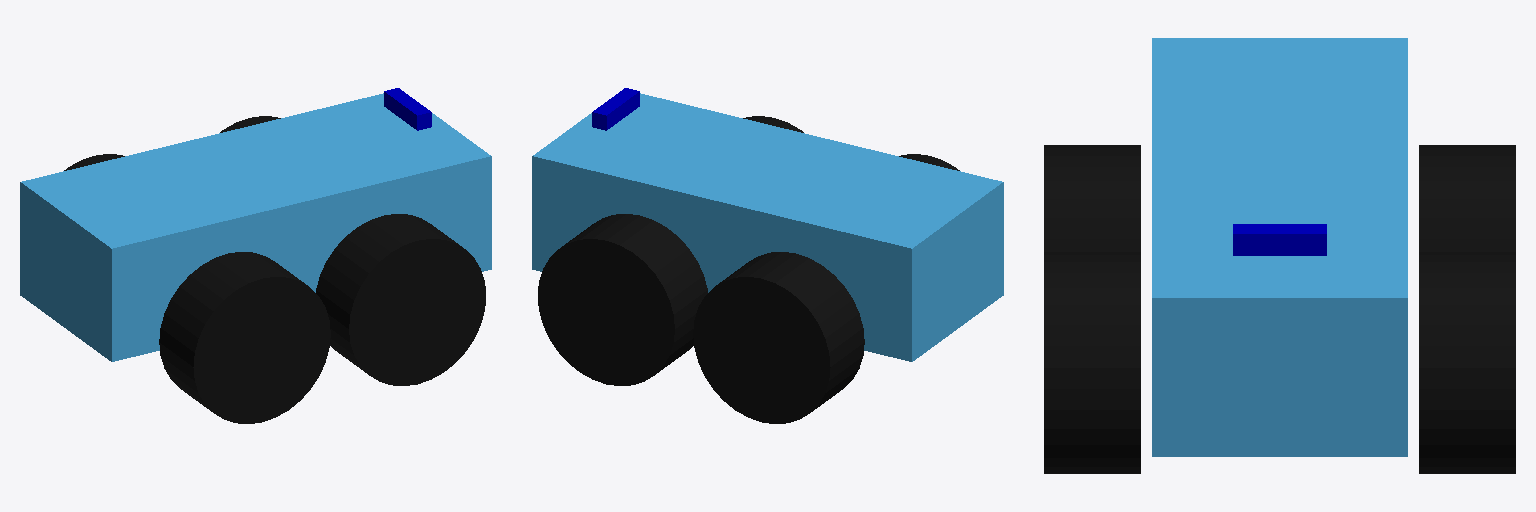
robot.urdf — seekurjr:
<?xml version="1.0" ?>
<!-- =================================================================================== -->
<!-- |    This document was autogenerated by xacro from seekurjr.xacro.xml             | -->
<!-- |    EDITING THIS FILE BY HAND IS NOT RECOMMENDED                                 | -->
<!-- =================================================================================== -->
<robot name="seekurjr" xmlns:xacro="http://www.ros.org/wiki/xacro">
  <!-- define global properties -->
  <!-- <property name="wheel_separation" value="0.66357" /> -->
  <!--
SeekurJr Base

m=77; h=0.5; w=0.84; d=1.05; 

length of the robot with laser rangefinder, etc 1.05m
width of the robot with wheels, etc 0.84m
height of the robot with all stuff 0.5m

-->
  <!--
  <xacro:include filename="$(find seekurjr_gazebo)/urdf/base.urdf.xml" />
  -->
  <link name="base_footprint">
    <!--
[ WARN] The root link base_footprint has an inertia specified in the URDF, but KDL does not support a root link with an inertia.  As a workaround, you can add an extra dummy link to your URDF.
-->
    <inertial>
      <mass value="0.0001"/>
      <origin xyz="0 0 0"/>
      <inertia ixx="0.0001" ixy="0.0" ixz="0.0" iyy="0.0001" iyz="0.0" izz="0.0001"/>
    </inertial>
    <visual>
      <origin rpy="0 0 0" xyz="0 0 0"/>
      <geometry>
        <box size="0.001 0.001 0.001"/>
      </geometry>
      <material name="Green">
        <color rgba="0 0.8 0 1"/>
      </material>
    </visual>
    <!-- 
	<collision>
		<origin xyz="0 0 ${base_size_z/2 + ground_clearance}" rpy="0 0 0" />
		<geometry>
			<box size="0.001 0.001 0.001" />
		</geometry>
	</collision>-->
  </link>
  <joint name="base_footprint_joint" type="fixed">
    <!-- NB: While you would think this would make it go up, it is oddly reversed.
		This moves the joint to 0,0,0 where we want it for rviz, etc. 
		origin xyz="0 0 ${base_size_z/2 + 0.051}" rpy="0 0 0"-->
    <origin rpy="0 0 0" xyz="0 0 0"/>
    <parent link="base_footprint"/>
    <child link="base_link"/>
  </joint>
  <link name="base_link">
    <inertial>
      <mass value="70.0"/>
      <origin rpy="0 0 0" xyz="0 0 0.2"/>
      <inertia ixx="3.03333212" ixy="0.0" ixz="0.0" iyy="7.3645803875" iyz="0.0" izz="8.5312465875"/>
    </inertial>
    <visual>
      <origin rpy="0 0 0" xyz="0 0 0.2"/>
      <geometry>
        <box size="1.05 0.4371 0.3"/>
      </geometry>
    </visual>
    <collision>
      <origin rpy="0 0 0" xyz="0 0 0.2"/>
      <geometry>
        <box size="1.05 0.6 0.4"/>
      </geometry>
    </collision>
  </link>
  <link name="bl_wheel">
    <visual>
      <origin rpy="1.57079632679 0 0" xyz="0 0 0"/>
      <geometry>
        <cylinder length="0.164" radius="0.19"/>
      </geometry>
      <material name="WheelBlack">
        <color rgba="0.117 0.117 0.117 1"/>
      </material>
    </visual>
    <collision>
      <origin rpy="1.57079632679 0 0" xyz="0 0 0"/>
      <geometry>
        <cylinder length="0.164" radius="0.19"/>
      </geometry>
    </collision>
    <inertial>
      <mass value="1.75"/>
      <origin rpy="0 0 0" xyz="0 0 0"/>
      <inertia ixx="0.0197160754469" ixy="0.0" ixz="0.0" iyy="0.0197160754469" iyz="0.0" izz="0.0315875"/>
    </inertial>
  </link>
  <link name="fl_wheel">
    <visual>
      <origin rpy="1.57079632679 0 0" xyz="0 0 0"/>
      <geometry>
        <cylinder length="0.164" radius="0.19"/>
      </geometry>
      <material name="WheelBlack">
        <color rgba="0.117 0.117 0.117 1"/>
      </material>
    </visual>
    <collision>
      <origin rpy="1.57079632679 0 0" xyz="0 0 0"/>
      <geometry>
        <cylinder length="0.164" radius="0.19"/>
      </geometry>
    </collision>
    <inertial>
      <mass value="1.75"/>
      <origin rpy="0 0 0" xyz="0 0 0"/>
      <inertia ixx="0.0197160754469" ixy="0.0" ixz="0.0" iyy="0.0197160754469" iyz="0.0" izz="0.0315875"/>
    </inertial>
  </link>
  <link name="br_wheel">
    <visual>
      <origin rpy="1.57079632679 0 0" xyz="0 0 0"/>
      <geometry>
        <cylinder length="0.164" radius="0.19"/>
      </geometry>
      <material name="WheelBlack">
        <color rgba="0.117 0.117 0.117 1"/>
      </material>
    </visual>
    <collision>
      <origin rpy="1.57079632679 0 0" xyz="0 0 0"/>
      <geometry>
        <cylinder length="0.164" radius="0.19"/>
      </geometry>
    </collision>
    <inertial>
      <mass value="1.75"/>
      <origin rpy="0 0 0" xyz="0 0 0"/>
      <inertia ixx="0.0197160754469" ixy="0.0" ixz="0.0" iyy="0.0197160754469" iyz="0.0" izz="0.0315875"/>
    </inertial>
  </link>
  <link name="fr_wheel">
    <visual>
      <origin rpy="1.57079632679 0 0" xyz="0 0 0"/>
      <geometry>
        <cylinder length="0.164" radius="0.19"/>
      </geometry>
      <material name="WheelBlack">
        <color rgba="0.117 0.117 0.117 1"/>
      </material>
    </visual>
    <collision>
      <origin rpy="1.57079632679 0 0" xyz="0 0 0"/>
      <geometry>
        <cylinder length="0.164" radius="0.19"/>
      </geometry>
    </collision>
    <inertial>
      <mass value="1.75"/>
      <origin rpy="0 0 0" xyz="0 0 0"/>
      <inertia ixx="0.0197160754469" ixy="0.0" ixz="0.0" iyy="0.0197160754469" iyz="0.0" izz="0.0315875"/>
    </inertial>
  </link>
  <joint name="bl_wheel_joint" type="continuous">
    <origin rpy="0 0 0" xyz="-0.215 0.32 0.083"/>
    <parent link="base_link"/>
    <child link="bl_wheel"/>
    <axis xyz="0 1 0"/>
    <dynamics damping="1.0" friction="0.0"/>
    <limit effort="30" lower="-100" upper="100" velocity="1.0"/>
  </joint>
  <joint name="fl_wheel_joint" type="continuous">
    <origin rpy="0 0 0" xyz="0.215 0.32 0.083"/>
    <parent link="base_link"/>
    <child link="fl_wheel"/>
    <axis xyz="0 1 0"/>
    <dynamics damping="1.0" friction="0.0"/>
    <limit effort="30" lower="-100" upper="100" velocity="1.0"/>
  </joint>
  <joint name="br_wheel_joint" type="continuous">
    <origin rpy="0 0 0" xyz="-0.215 -0.32 0.083"/>
    <parent link="base_link"/>
    <child link="br_wheel"/>
    <axis xyz="0 1 0"/>
    <dynamics damping="1.0" friction="0.0"/>
    <limit effort="30" lower="-100" upper="100" velocity="1.0"/>
  </joint>
  <joint name="fr_wheel_joint" type="continuous">
    <origin rpy="0 0 0" xyz="0.215 -0.32 0.083"/>
    <parent link="base_link"/>
    <child link="fr_wheel"/>
    <axis xyz="0 1 0"/>
    <dynamics damping="1.0" friction="0.0"/>
    <limit effort="30" lower="-100" upper="100" velocity="1.0"/>
  </joint>
  <gazebo reference="fr_wheel">
    <!-- kp and kd for rubber -->
    <kp>1000000.0</kp>
    <kd>100.0</kd>
    <mu1>0.9</mu1>
    <mu2>0.9</mu2>
    <fdir1>0 1 0</fdir1>
    <maxVel>1.0</maxVel>
    <minDepth>0.00</minDepth>
    <material>Gazebo/Grey</material>
  </gazebo>
  <gazebo reference="br_wheel">
    <!-- kp and kd for rubber -->
    <kp>1000000.0</kp>
    <kd>100.0</kd>
    <mu1>0.9</mu1>
    <mu2>0.9</mu2>
    <fdir1>0 1 0</fdir1>
    <maxVel>1.0</maxVel>
    <minDepth>0.00</minDepth>
    <material>Gazebo/Grey</material>
  </gazebo>
  <gazebo reference="fl_wheel">
    <!-- kp and kd for rubber -->
    <kp>1000000.0</kp>
    <kd>100.0</kd>
    <mu1>0.9</mu1>
    <mu2>0.9</mu2>
    <fdir1>0 1 0</fdir1>
    <maxVel>1.0</maxVel>
    <minDepth>0.00</minDepth>
    <material>Gazebo/Grey</material>
  </gazebo>
  <gazebo reference="bl_wheel">
    <!-- kp and kd for rubber -->
    <kp>1000000.0</kp>
    <kd>100.0</kd>
    <mu1>0.9</mu1>
    <mu2>0.9</mu2>
    <fdir1>0 1 0</fdir1>
    <maxVel>1.0</maxVel>
    <minDepth>0.00</minDepth>
    <material>Gazebo/Grey</material>
  </gazebo>
  <gazebo>
    <plugin filename="libgazebo_ros_skid_steer_drive.so" name="skid_steer_drive_controller">
      <updateRate>100.0</updateRate>
      <robotNamespace>/seekurjr</robotNamespace>
      <leftFrontJoint>fl_wheel_joint</leftFrontJoint>
      <rightFrontJoint>fr_wheel_joint</rightFrontJoint>
      <leftRearJoint>bl_wheel_joint</leftRearJoint>
      <rightRearJoint>br_wheel_joint</rightRearJoint>
      <wheelSeparation>0.66</wheelSeparation>
      <wheelDiameter>0.385</wheelDiameter>
      <robotBaseFrame>base_link</robotBaseFrame>
      <torque>50</torque>
      <topicName>cmd_vel</topicName>
      <commandTopic>cmd_vel</commandTopic>
      <odometryTopic>odom_raw</odometryTopic>
      <odometryFrame>odom</odometryFrame>
      <!--
    <broadcastTF>false</broadcastTF>
    -->
      <max_force>50.0</max_force>
    </plugin>
  </gazebo>
  <gazebo>
    <plugin filename="libgazebo_ros_p3d.so" name="gazebo_ros_p3d">
      <bodyName>base_link</bodyName>
      <topicName>/ground_truth/state</topicName>
      <alwaysOn>true</alwaysOn>
      <updateRate>100.0</updateRate>
    </plugin>
  </gazebo>
  <gazebo>
    <plugin filename="libgazebo_ros_control.so" name="ros_control">
      <robotNamespace>/seekurjr</robotNamespace>
    </plugin>
  </gazebo>
  <link name="lms1xx_link">
    <collision>
      <origin rpy="0 0 0" xyz="0 0 0"/>
      <geometry>
        <box size="0.1 0.1 0.1"/>
      </geometry>
    </collision>
    <visual>
      <origin rpy="0 0 0" xyz="0 0 0"/>
      <geometry>
        <mesh filename="package://seekurjr_gazebo/meshes/lms100.dae" scale="2 2 2"/>
      </geometry>
    </visual>
    <inertial>
      <mass value="1e-5"/>
      <origin rpy="0 0 0" xyz="0 0 0"/>
      <inertia ixx="1e-6" ixy="0" ixz="0" iyy="1e-6" iyz="0" izz="1e-6"/>
    </inertial>
  </link>
  <joint name="lms1xx_joint" type="fixed">
    <axis xyz="1 0 0"/>
    <origin rpy="0 0 0" xyz="0.52 0.0 0.24"/>
    <parent link="base_link"/>
    <child link="lms1xx_link"/>
  </joint>
  <gazebo reference="lms1xx_link">
    <sensor name="lms1xx" type="ray">
      <pose>0 0 0 0 0 0</pose>
      <visualize>true</visualize>
      <update_rate>20</update_rate>
      <ray>
        <scan>
          <horizontal>
            <samples>720</samples>
            <resolution>1</resolution>
            <min_angle>-2.35619449</min_angle>
            <max_angle>2.35619449</max_angle>
          </horizontal>
        </scan>
        <range>
          <min>0.50</min>
          <max>20.0</max>
          <resolution>0.01</resolution>
        </range>
        <noise>
          <!--
				<type> none </type>
				-->
          <!-- Noise parameters based on published spec for Hokuyo laser
             achieving "+-30mm" accuracy at range < 10m. A mean of 0.0m and
             stddev of 0.01m will put 99.7% of samples within 0.03m of the true
             reading. -->
          <type>gaussian</type>
          <mean>0.0</mean>
          <stddev>0.01</stddev>
        </noise>
      </ray>
      <plugin filename="libgazebo_ros_laser.so" name="gazebo_ros_lms1xx_controller">
        <topicName>/seekurjr/lms1xx/scan</topicName>
        <frameName>lms1xx_link</frameName>
      </plugin>
    </sensor>
  </gazebo>
  <link name="camera_link">
    <inertial>
      <mass value="0.001"/>
      <origin rpy="0 0 0" xyz="0 0 0"/>
      <inertia ixx="0.0001" ixy="0" ixz="0" iyy="0.0001" iyz="0" izz="0.0001"/>
    </inertial>
    <visual>
      <origin rpy="0 0 0" xyz="0 0 0"/>
      <geometry>
        <box size="0.04 0.16 0.04"/>
      </geometry>
      <material name="Yellow">
        <color rgba="0.0 0.0 0.8 1"/>
      </material>
    </visual>
    <collision>
      <origin rpy="0 0 0" xyz="0 0 0"/>
      <geometry>
        <box size="0.04 0.16 0.04"/>
      </geometry>
    </collision>
  </link>
  <link name="left_camera_optical_frame"/>
  <joint name="camera_optical_joint" type="fixed">
    <origin rpy="-1.570796 0.0 -1.570796" xyz="0 0 0"/>
    <parent link="camera_link"/>
    <child link="left_camera_optical_frame"/>
  </joint>
  <joint name="camera_joint" type="fixed">
    <axis xyz="1 0 0"/>
    <!-- 0 1 0 -->
    <origin rpy="0 0 0" xyz="0.42 0 0.41"/>
    <parent link="base_link"/>
    <child link="camera_link"/>
  </joint>
  <gazebo reference="camera_link">
    <sensor name="stereo_camera" type="multicamera">
      <update_rate>30.0</update_rate>
      <visualize>true</visualize>
      <camera name="left">
        <horizontal_fov>1.3962634</horizontal_fov>
        <image>
          <width>752</width>
          <height>480</height>
          <format>R8G8B8</format>
        </image>
        <clip>
          <near>0.02</near>
          <far>300</far>
        </clip>
        <noise>
          <type>gaussian</type>
          <mean>0.0</mean>
          <stddev>0.007</stddev>
        </noise>
      </camera>
      <camera name="right">
        <pose>0 -0.07 0 0 0 0</pose>
        <horizontal_fov>1.3962634</horizontal_fov>
        <image>
          <width>752</width>
          <height>480</height>
          <format>R8G8B8</format>
        </image>
        <clip>
          <near>0.02</near>
          <far>300</far>
        </clip>
        <noise>
          <type>gaussian</type>
          <mean>0.0</mean>
          <stddev>0.007</stddev>
        </noise>
      </camera>
      <plugin filename="libgazebo_ros_multicamera.so" name="stereo_camera_controller">
        <alwaysOn>true</alwaysOn>
        <updateRate>15.0</updateRate>
        <cameraName>mobileranger/camera</cameraName>
        <imageTopicName>image_raw</imageTopicName>
        <cameraInfoTopicName>camera_info</cameraInfoTopicName>
        <frameName>left_camera_optical_frame</frameName>
        <!--<rightFrameName>right_camera_optical_frame</rightFrameName>-->
        <hackBaseline>0.07</hackBaseline>
        <distortionK1>0.0</distortionK1>
        <distortionK2>0.0</distortionK2>
        <distortionK3>0.0</distortionK3>
        <distortionT1>0.0</distortionT1>
        <distortionT2>0.0</distortionT2>
      </plugin>
    </sensor>
  </gazebo>
  <link name="imu_link">
    <inertial>
      <mass value="0.001"/>
      <origin rpy="0 0 0" xyz="0 0 0"/>
      <inertia ixx="0.0001" ixy="0" ixz="0" iyy="0.000001" iyz="0" izz="0.0001"/>
    </inertial>
    <visual>
      <origin rpy="0 0 0" xyz="0 0 0"/>
      <geometry>
        <box size="0.1 0.1 0.1"/>
      </geometry>
    </visual>
    <collision>
      <origin rpy="0 0 0" xyz="0 0 0"/>
      <geometry>
        <box size=".001 .001 .001"/>
      </geometry>
    </collision>
  </link>
  <joint name="imu_joint" type="fixed">
    <origin xyz="0 0 0.2"/>
    <parent link="base_link"/>
    <child link="imu_link"/>
  </joint>
  <gazebo>
    <plugin filename="libhector_gazebo_ros_imu.so" name="seekurjr_imu_sim">
      <updateRate>100.0</updateRate>
      <bodyName>base_link</bodyName>
      <topicName>/seekurjr/imu_raw</topicName>
      <rpyOffsets>0 0 0</rpyOffsets>
      <!-- deprecated -->
      <gaussianNoise>0</gaussianNoise>
      <!-- deprecated -->
      <accelDrift>0.5 0.5 0.5</accelDrift>
      <accelGaussianNoise>0.35 0.35 0.3</accelGaussianNoise>
      <rateDrift>0.1 0.1 0.1</rateDrift>
      <rateGaussianNoise>0.05 0.05 0.015</rateGaussianNoise>
      <headingDrift>0.1</headingDrift>
      <headingGaussianNoise>0.05</headingGaussianNoise>
    </plugin>
  </gazebo>
  <!--
  <xacro:include filename="$(find seekurjr_gazebo)/urdf/bumpers.urdf.xml" />
	<xacro:include filename="$(find seekurjr_gazebo)/urdf/bumpers.gazebo.xml" />
	-->
</robot>

--- What the picture shows (computed from the rendered views, not written in the file) ---
The picture shows the robot from 3 angles, left to right: view 1: azimuth 30°, elevation 25°; view 2: azimuth 150°, elevation 25°; view 3: azimuth 270°, elevation 25°; orthographic projection.
Model seekurjr with 10 links and 9 joints (4 continuous, 5 fixed), rooted at base_footprint, posed all joints at 0.
Visible links, largest first — view 1: base_link, br_wheel, fr_wheel, camera_link; view 2: base_link, bl_wheel, fl_wheel, camera_link; view 3: base_link, fl_wheel, fr_wheel, bl_wheel, br_wheel, camera_link.
Boxes of the visible links, x1=… form: base_link: x1=20, y1=93, x2=491, y2=361; br_wheel: x1=159, y1=252, x2=330, y2=423; fr_wheel: x1=316, y1=214, x2=485, y2=385; camera_link: x1=384, y1=88, x2=431, y2=130; base_link: x1=532, y1=93, x2=1003, y2=361; bl_wheel: x1=693, y1=252, x2=864, y2=423; fl_wheel: x1=538, y1=214, x2=707, y2=385; camera_link: x1=592, y1=88, x2=639, y2=130; base_link: x1=1152, y1=38, x2=1407, y2=456; fl_wheel: x1=1419, y1=252, x2=1515, y2=473; fr_wheel: x1=1044, y1=252, x2=1140, y2=473; bl_wheel: x1=1419, y1=145, x2=1515, y2=251; br_wheel: x1=1044, y1=145, x2=1140, y2=251; camera_link: x1=1233, y1=224, x2=1326, y2=255.
Bounding box of the posed robot: 1.05 × 0.804 × 0.537 m (x, y, z).
Meshes: 1 distinct files referenced, 0 mesh visuals loaded (none loaded); not drawn: 1 (reference not matched to a file when rendering).
